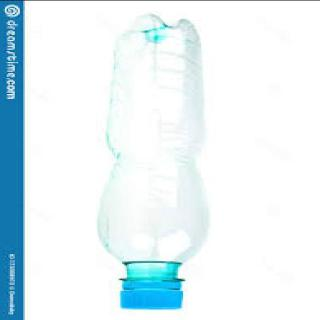Anorganik: (88, 11, 214, 314)
